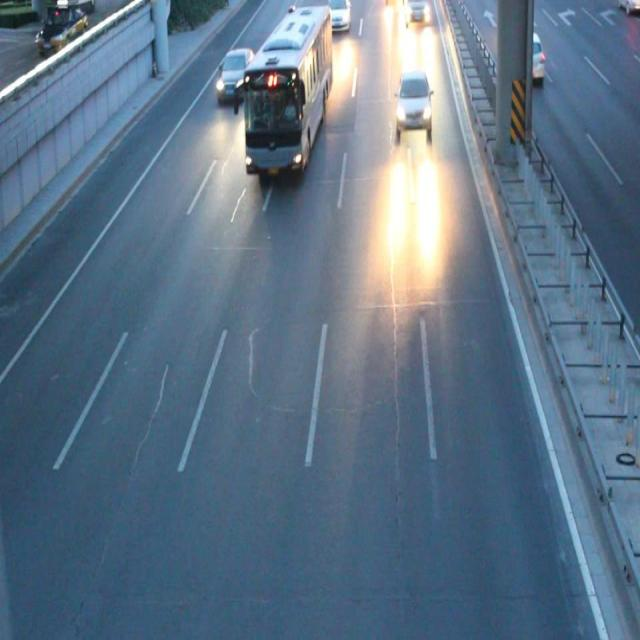car: (506, 30, 545, 85), (396, 76, 432, 134), (215, 52, 254, 97), (324, 1, 348, 29), (402, 1, 428, 24)
van: (242, 12, 332, 171)
